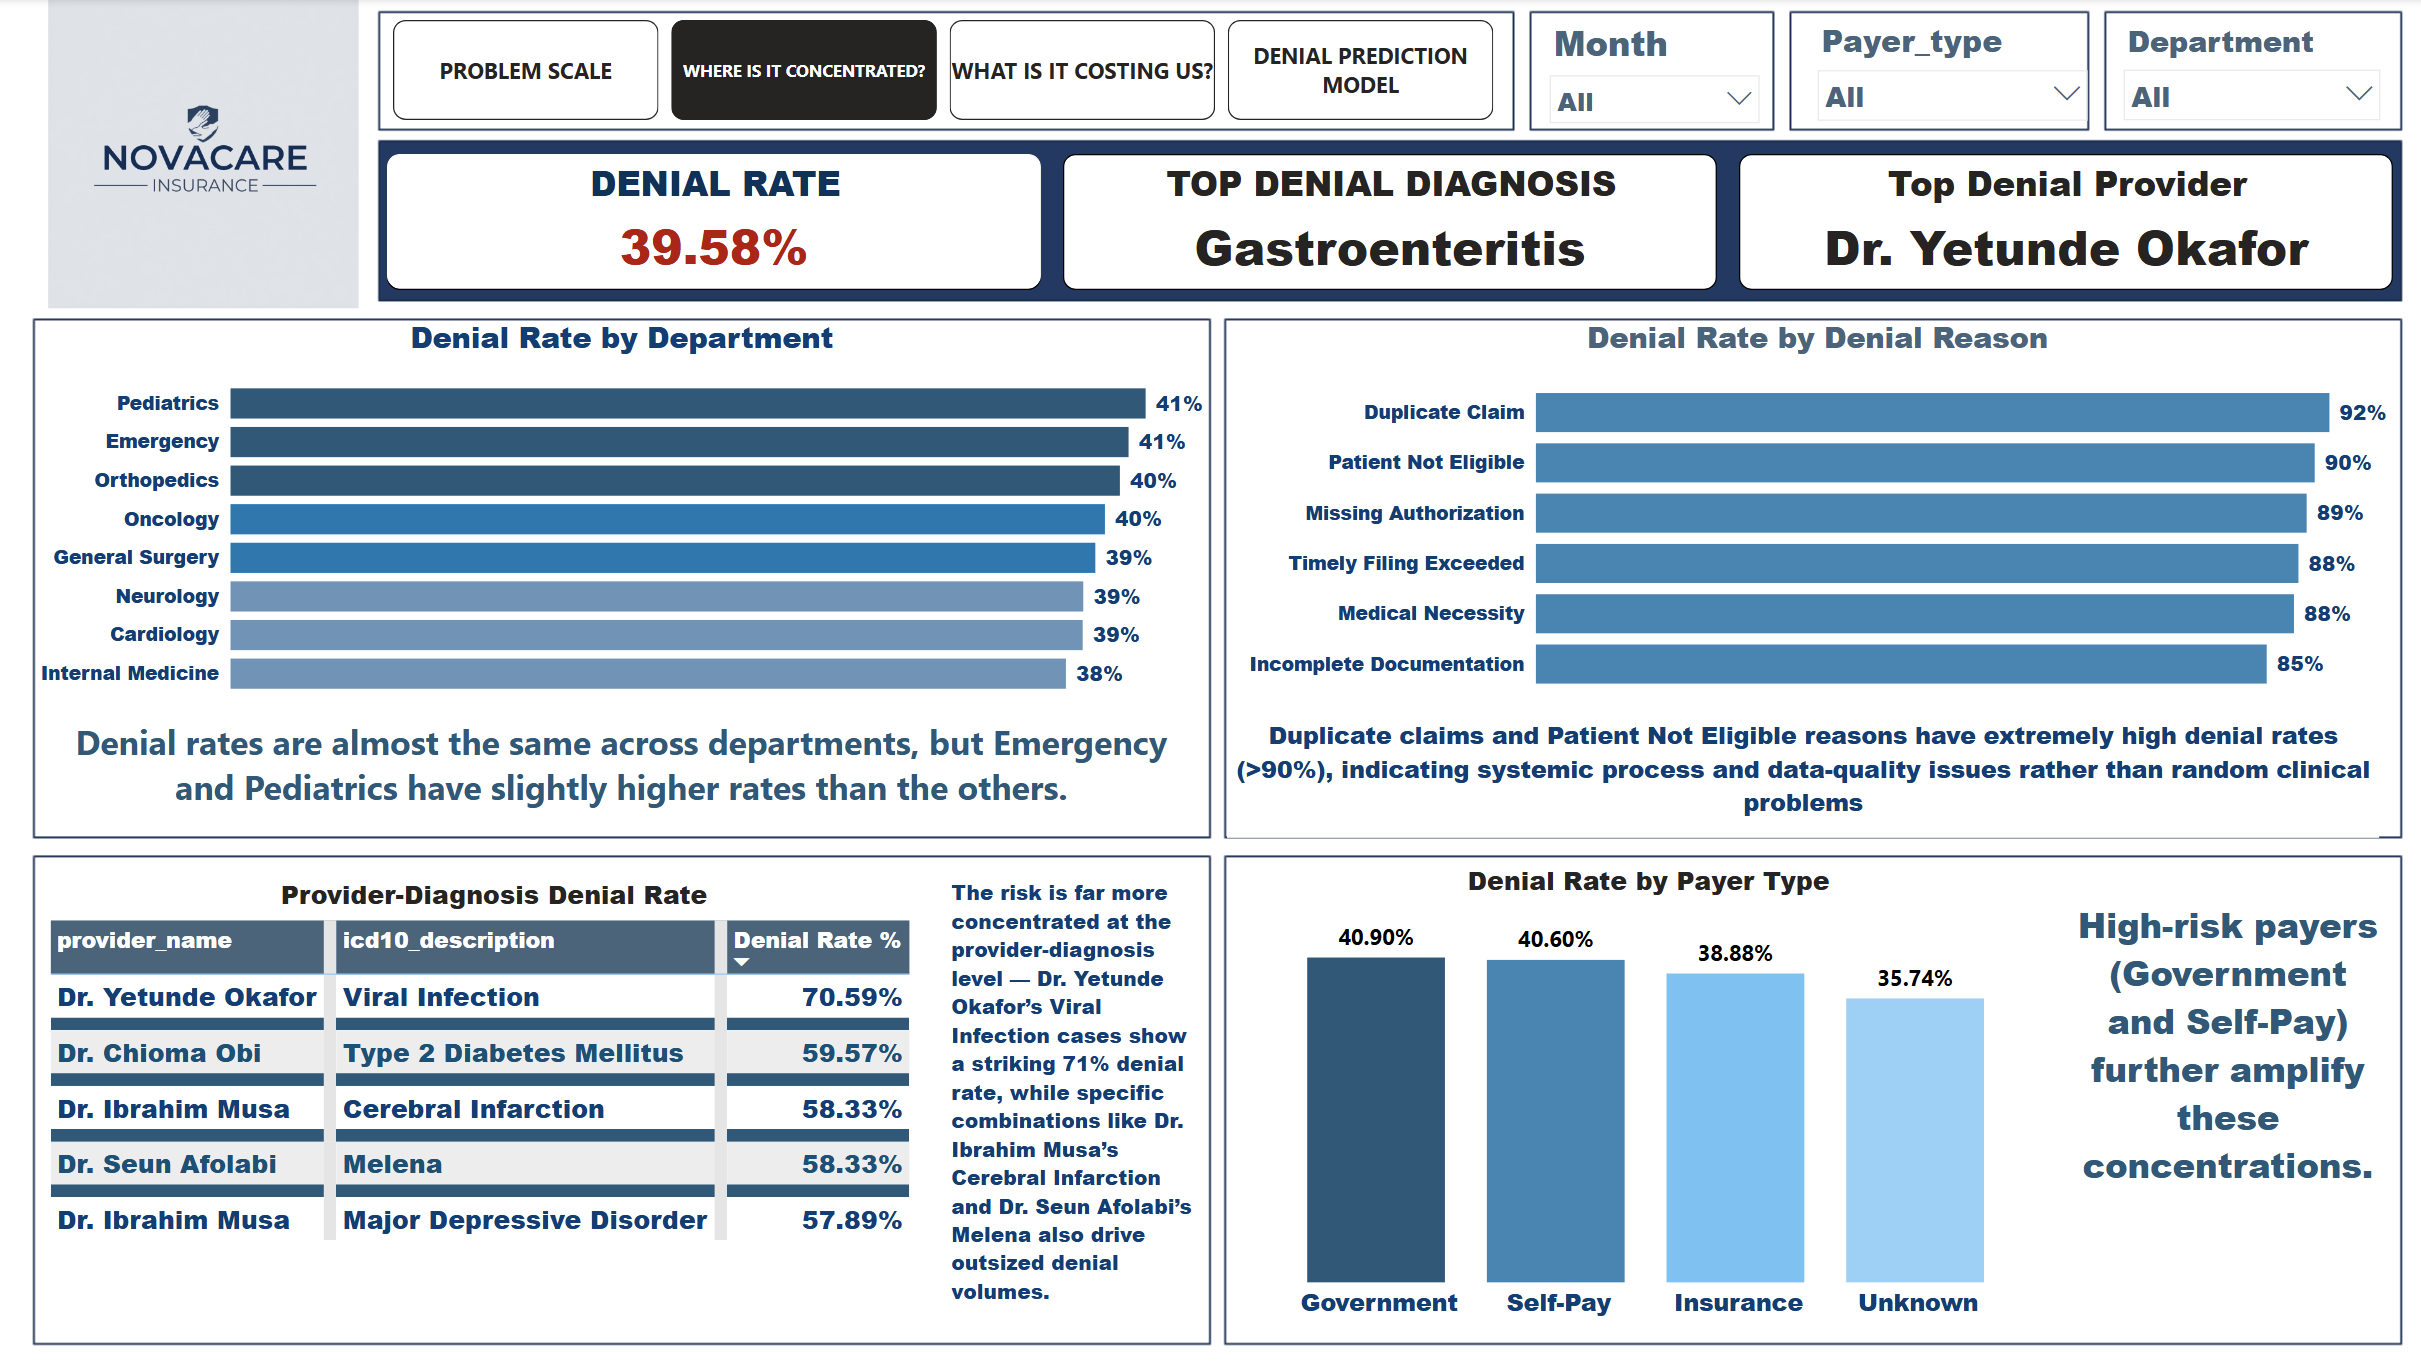

The page's visual inventory and layout, read from the dashboard file:
{"tool":"powerbi","page":{"name":"WHERE IS IT CONCENTRATED?","canvas":[1920,1080],"ordinal":1},"visuals":[{"type":"clusteredBarChart","title":"Denial Rate by Department","fields":{"Category":["claims output.department"],"Y":["claims output.Denial Rate %"]},"box":[30.2,252.1,930.9,312.5],"z":0},{"type":"textbox","box":[39,564.8,911.1,99.6],"z":1000},{"type":"tableEx","title":"Provider-Diagnosis Denial Rate","fields":{"Values":["claims output.provider_name","claims output.icd10_description","claims output.Denial Rate %"]},"box":[38.2,694.2,713.3,298.3],"z":2000},{"type":"clusteredColumnChart","title":"Denial Rate by Payer Type","fields":{"Category":["claims output.payer_type"],"Y":["claims output.Denial Rate %"]},"box":[974.9,682.7,663.5,373.3],"z":3000},{"type":"barChart","title":"Denial Rate by Denial Reason","fields":{"Category":["claims output.denial_reason"],"Y":["claims output.Denial Rate %"]},"box":[984.8,252.1,911.5,312.5],"z":4000},{"type":"textbox","box":[751.6,690.4,206.5,361.4],"z":5000},{"type":"textbox","box":[973.9,564.8,911.1,99.6],"z":6000},{"type":"textbox","box":[1637.7,709,254.3,262.9],"z":7000},{"type":"slicer","fields":{"Values":["claims output.department"]},"box":[1672.9,13,222.9,84.4],"z":8000},{"type":"slicer","fields":{"Values":["claims output.payer_type"]},"box":[1430.5,10.8,233.7,95.2],"z":9000},{"type":"slicer","fields":{"Values":["claims output.claim_submission_date.Variation.Date Hierarchy.Month"]},"box":[1218.4,10.8,186.1,90.9],"z":10000},{"type":"image","box":[30.2,0,269.4,245.7],"z":11000},{"type":"card","title":"Top Denial Provider","fields":{"Values":["claims output.Top Denial Provider"]},"box":[1379.1,122.8,517.2,107.7],"z":12000},{"type":"card","title":"TOP DENIAL DIAGNOSIS","fields":{"Values":["claims output.Top Rate Diagnosis"]},"box":[844.7,122.8,517.2,107.7],"z":13000},{"type":"card","title":"Denial Rate","fields":{"Values":["claims output.Denial Rate %"]},"box":[310.3,122.8,517.2,107.7],"z":14000},{"type":"pageNavigator","box":[314.7,17.5,872.2,79.6],"z":15000},{"type":"card","title":"DENIAL RATE","fields":{"Values":["claims output.Denial Rate %"]},"box":[309.5,123.4,517.2,106],"z":16000}]}

Visuals, with their boxes in screenshot pixels (x1, y1, x2, y2), scaled from the page's 1920x1080 canvas onto the 2421x1363 screenshot:
"Denial Rate by Department" clusteredBarChart: [38, 318, 1212, 713]
textbox: [49, 713, 1198, 838]
"Provider-Diagnosis Denial Rate" tableEx: [48, 876, 948, 1253]
"Denial Rate by Payer Type" clusteredColumnChart: [1229, 862, 2066, 1333]
"Denial Rate by Denial Reason" barChart: [1242, 318, 2391, 713]
textbox: [948, 871, 1208, 1327]
textbox: [1228, 713, 2377, 838]
textbox: [2065, 895, 2386, 1227]
slicer - claims output.department: [2109, 16, 2390, 123]
slicer - claims output.payer_type: [1804, 14, 2098, 134]
slicer - claims output.claim_submission_date.Variation.Date Hierarchy.Month: [1536, 14, 1771, 128]
image: [38, 0, 378, 310]
"Top Denial Provider" card: [1739, 155, 2391, 291]
"TOP DENIAL DIAGNOSIS" card: [1065, 155, 1717, 291]
"Denial Rate" card: [391, 155, 1043, 291]
pageNavigator: [397, 22, 1497, 123]
"DENIAL RATE" card: [390, 156, 1042, 290]
